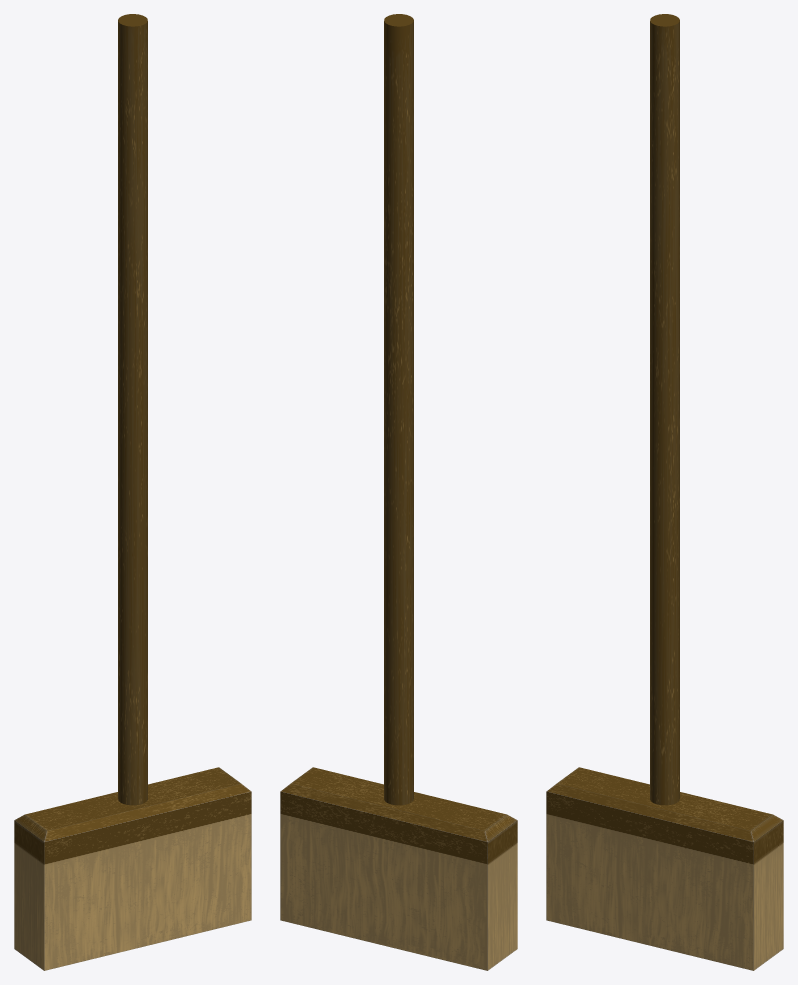
File: TexturedBroom.fbx
3 renders of one model, left to right at view 1: azimuth 30°, elevation 25°; view 2: azimuth 150°, elevation 25°; view 3: azimuth 330°, elevation 25°, orthographic.
Parts seen in each view (by area): view 1: pCube1, pCylinder1; view 2: pCube1, pCylinder1; view 3: pCube1, pCylinder1.
Boxes of the visible parts, x1,y1,x2,y2 form: pCube1: (14,767,251,970); pCylinder1: (118,14,147,805); pCube1: (280,767,517,970); pCylinder1: (384,14,413,805); pCube1: (546,767,783,970); pCylinder1: (650,14,679,805).
Bounding box in the file's own units: 4 × 16.85 × 1.
Materials: 2 (2 with a texture image).
